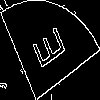E: (25, 25, 67, 76)
